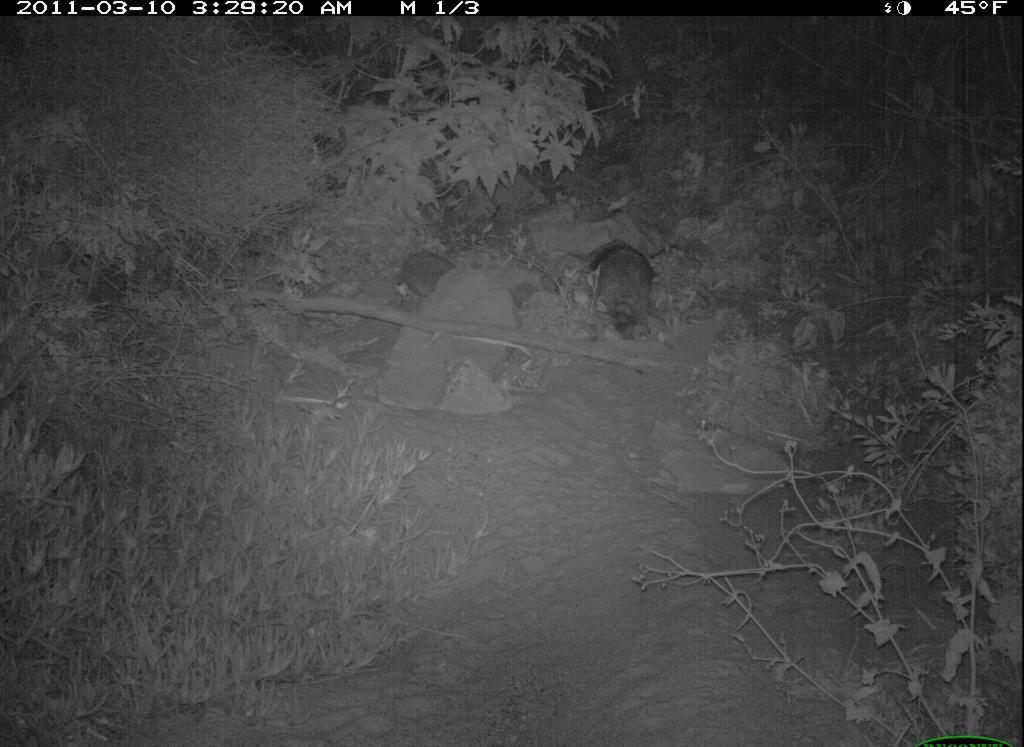raccoon: (584, 241, 665, 347)
